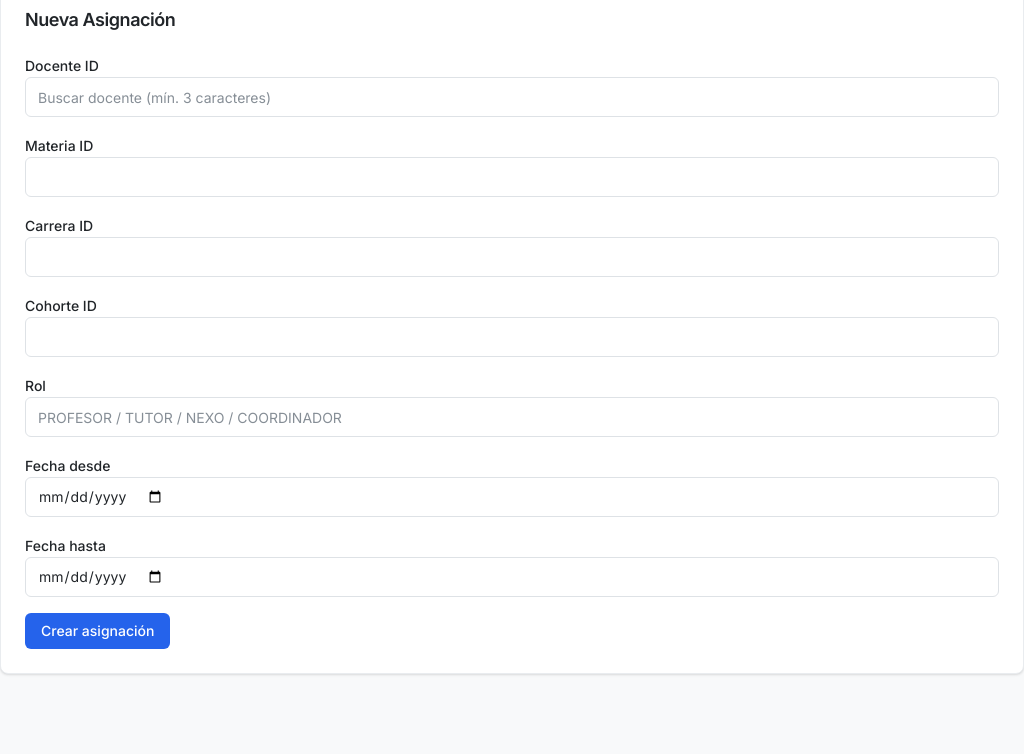
it: AsignacionForm › shows validation error when submitted empty
The width and height of the screenshot is (1024, 754).
Click the button "Crear asignación". click: (98, 631)
box: [25,613,170,649]
(page scrolled)
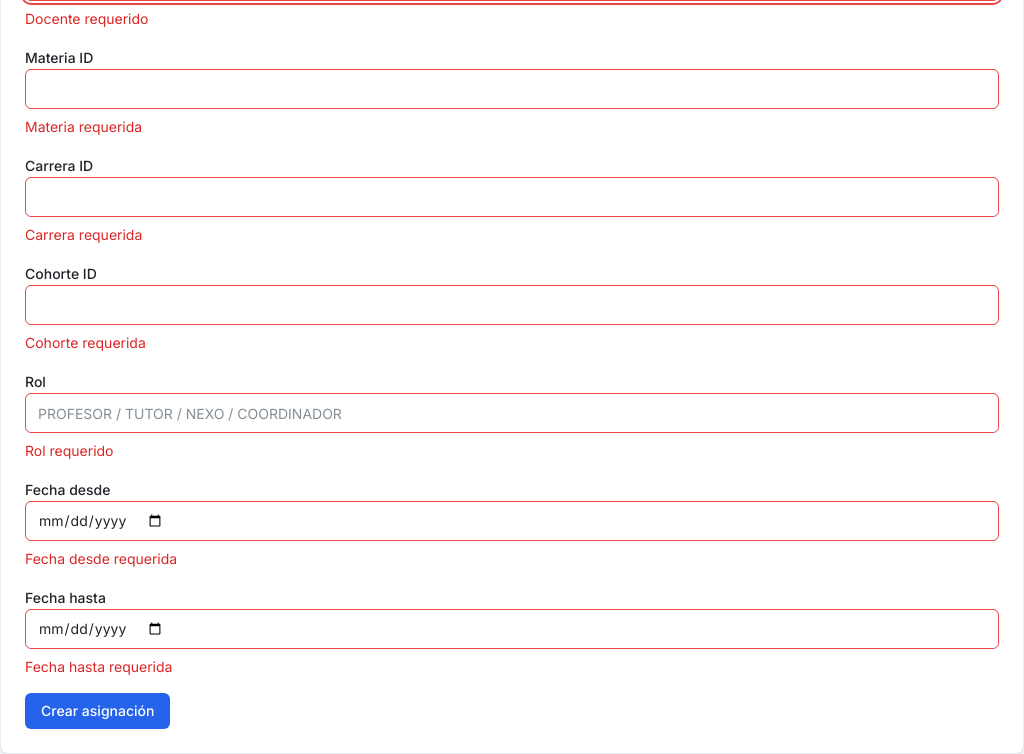
Now the text "Docente requerido" is shown, box [25,10,148,27]
Now the text "Materia requerida" is shown, box [25,118,142,135]
Now the text "Carrera requerida" is shown, box [25,226,142,243]
